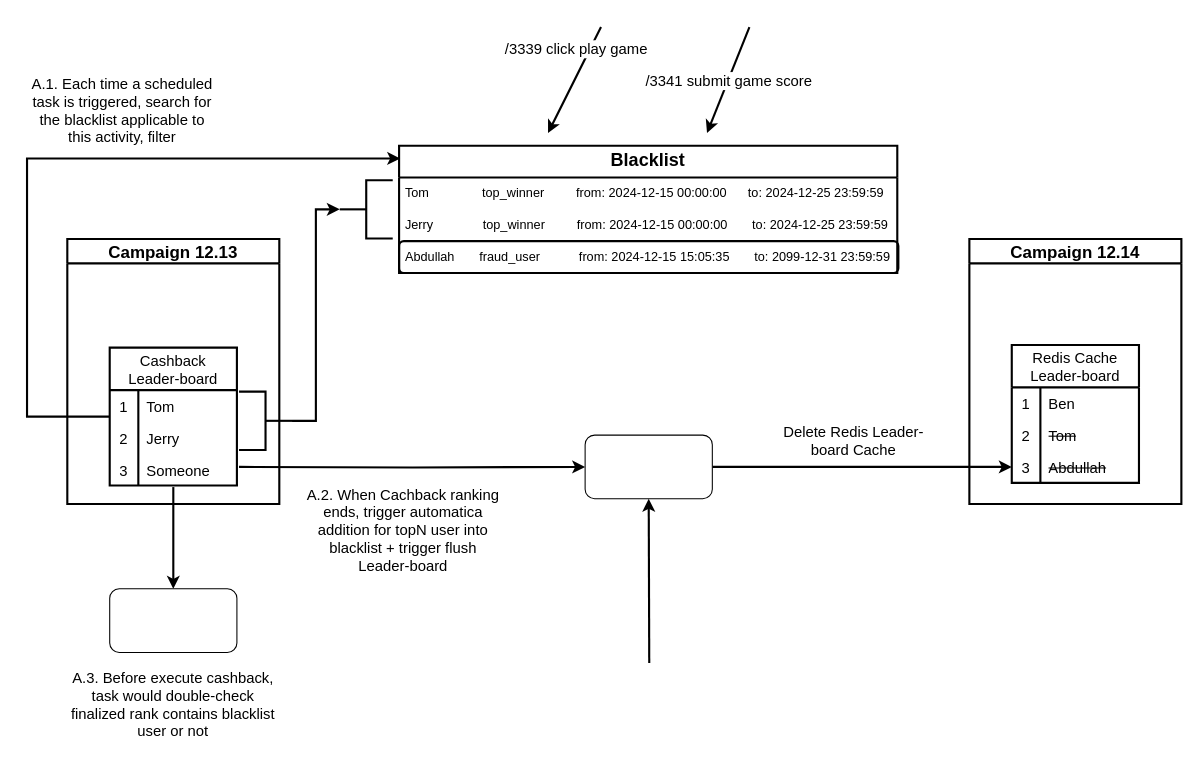
Image size: 1200x774. Some labels were removed from this diagram. Each missing label, with the centre of its shape:
"Cashback Execution" goes at [173,620].
"Flush Leader-board" goes at [648,466].
